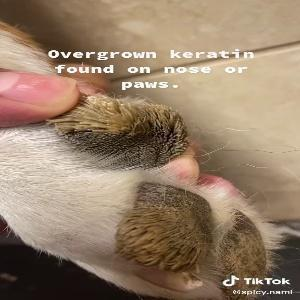keratosis: (40, 82, 196, 176), (112, 177, 216, 280)
